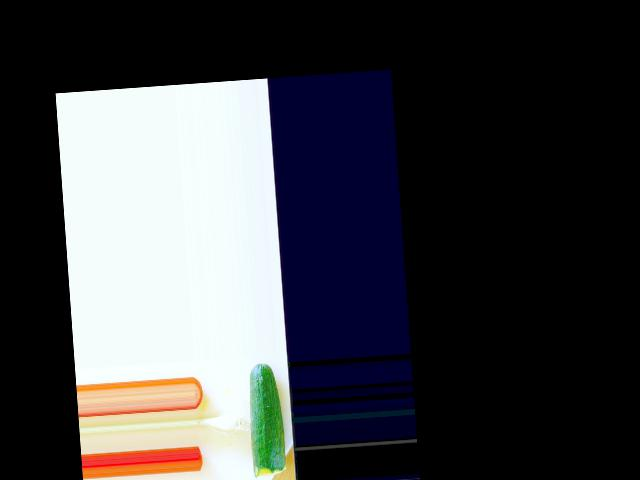cucumber: (246, 361, 287, 477)
